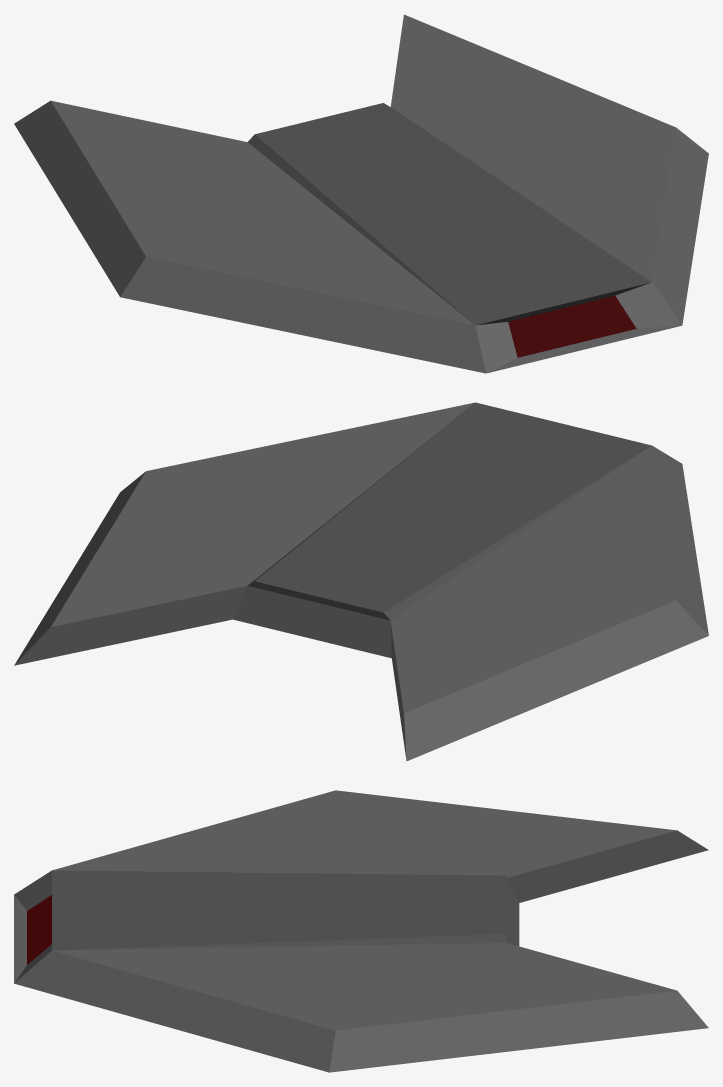
File: enemyship3.glb
3 views of the same model, one above another, from view 1: azimuth 30°, elevation 25°; view 2: azimuth 150°, elevation 25°; view 3: azimuth 270°, elevation 25° (orthographic). The views are drawn at different scales.
Parts seen in each view (by area): view 1: Ship; view 2: Ship; view 3: Ship.
Part boxes in pixels (x1,y1,x2,y2): Ship: [14, 14, 708, 373]; Ship: [14, 402, 708, 760]; Ship: [14, 790, 708, 1072].
Bounding box in the file's own units: 2 × 0.12 × 2.2.
